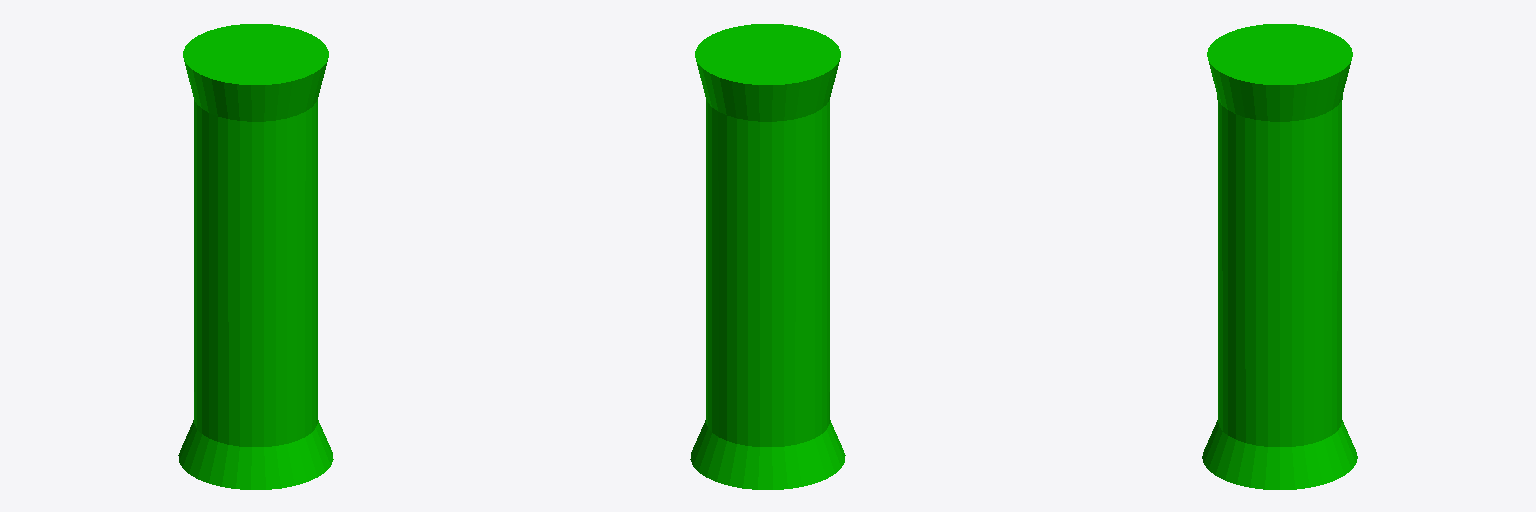
The model's file is pipe.obj.
3 renders of one model, left to right at view 1: azimuth 30°, elevation 25°; view 2: azimuth 150°, elevation 25°; view 3: azimuth 270°, elevation 25°, orthographic.
Parts seen in each view (by area): view 1: Cylinder; view 2: Cylinder; view 3: Cylinder.
Boxes of the visible parts, x1=… form: Cylinder: x1=178, y1=24, x2=333, y2=489; Cylinder: x1=690, y1=24, x2=845, y2=489; Cylinder: x1=1202, y1=24, x2=1357, y2=489.
Bounding box in the file's own units: 2 × 5.72 × 2.